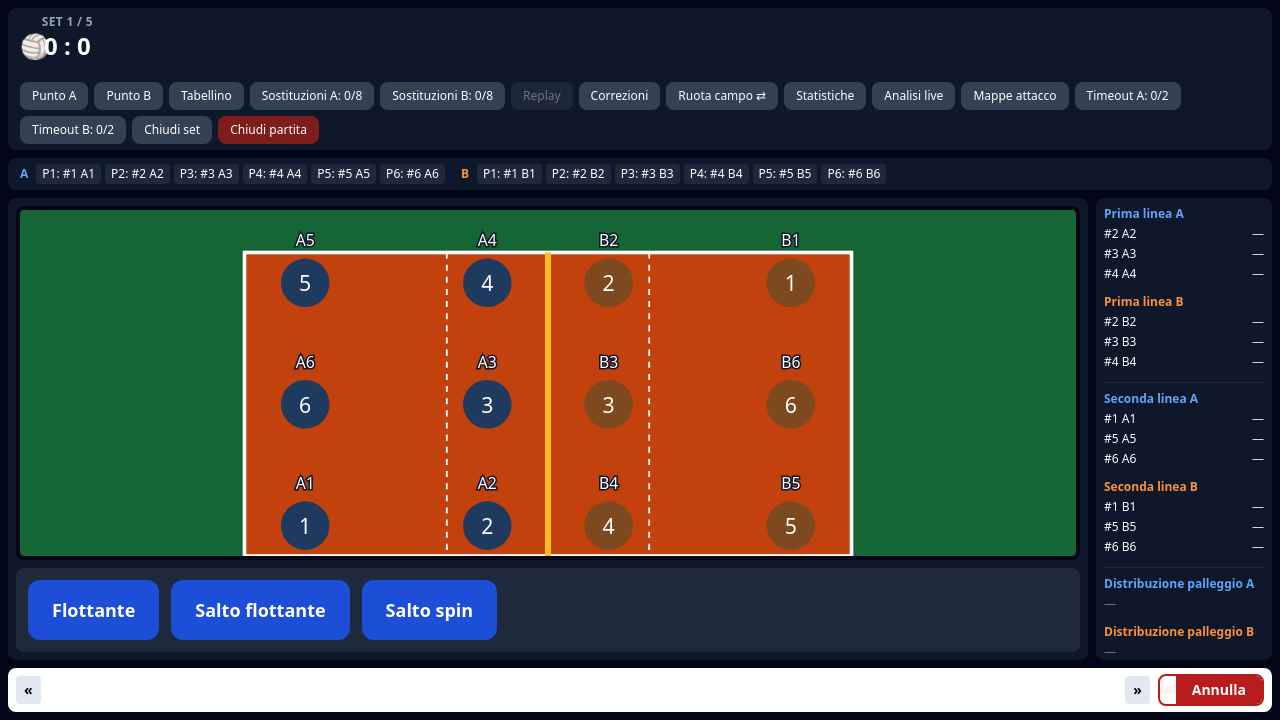
Test case: LiveScoutingScreen › annulla e correzioni › corregge il punteggio dal pannello Correzioni e le azioni restano
This screenshot has width=1280, height=720.
Expected: the element with test id "punteggio" is shown, [20, 29, 91, 62]
Click the button "Punto B": (129, 96) [94, 82, 163, 110]
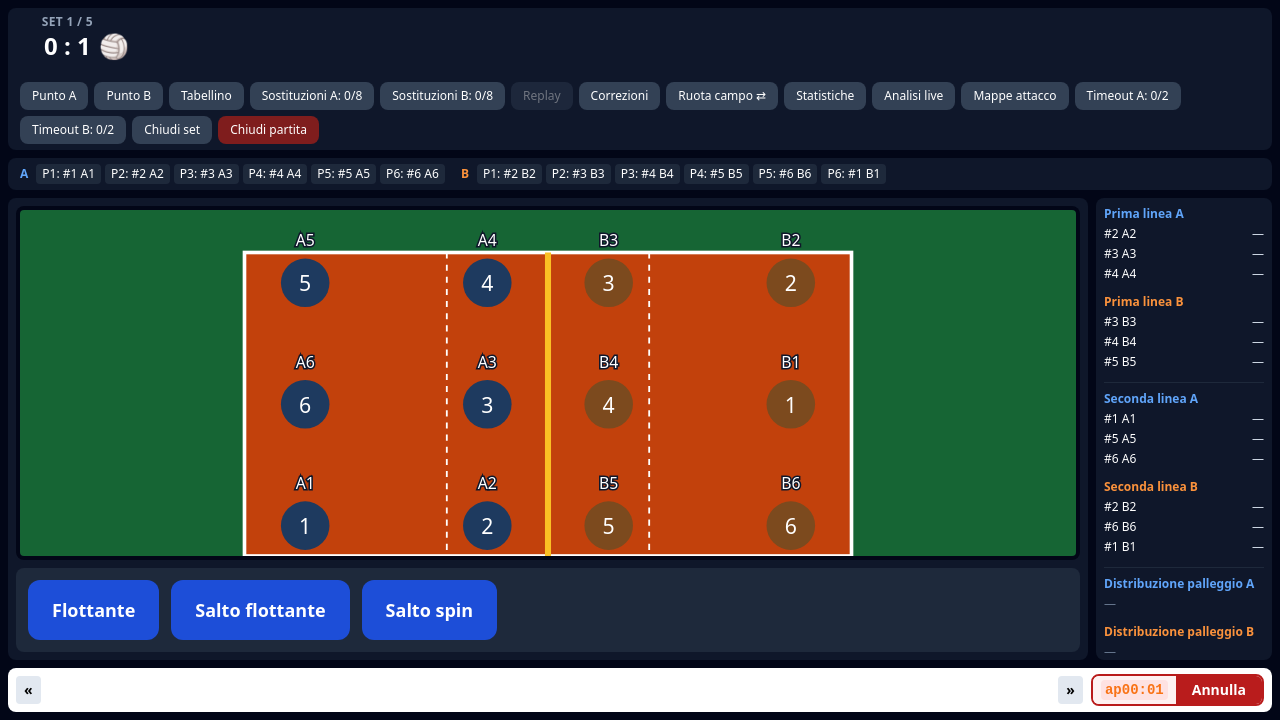
Result: the element with test id "punteggio" shows "0 : 1" at [20, 30, 115, 62]
Click the button with test id "apri-correzioni": (619, 96) [579, 82, 660, 110]
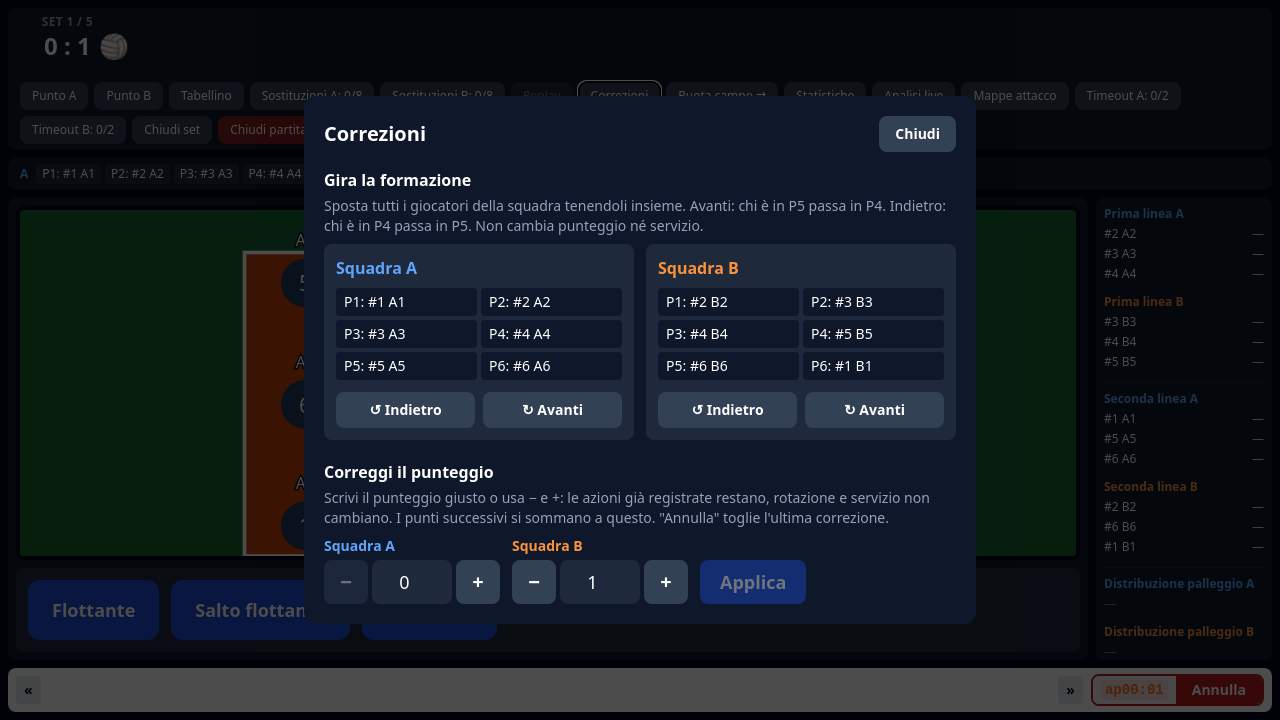
Replace the text in the number field with test id "correzione-punteggio-a" with "7": (412, 582) [372, 560, 452, 604]
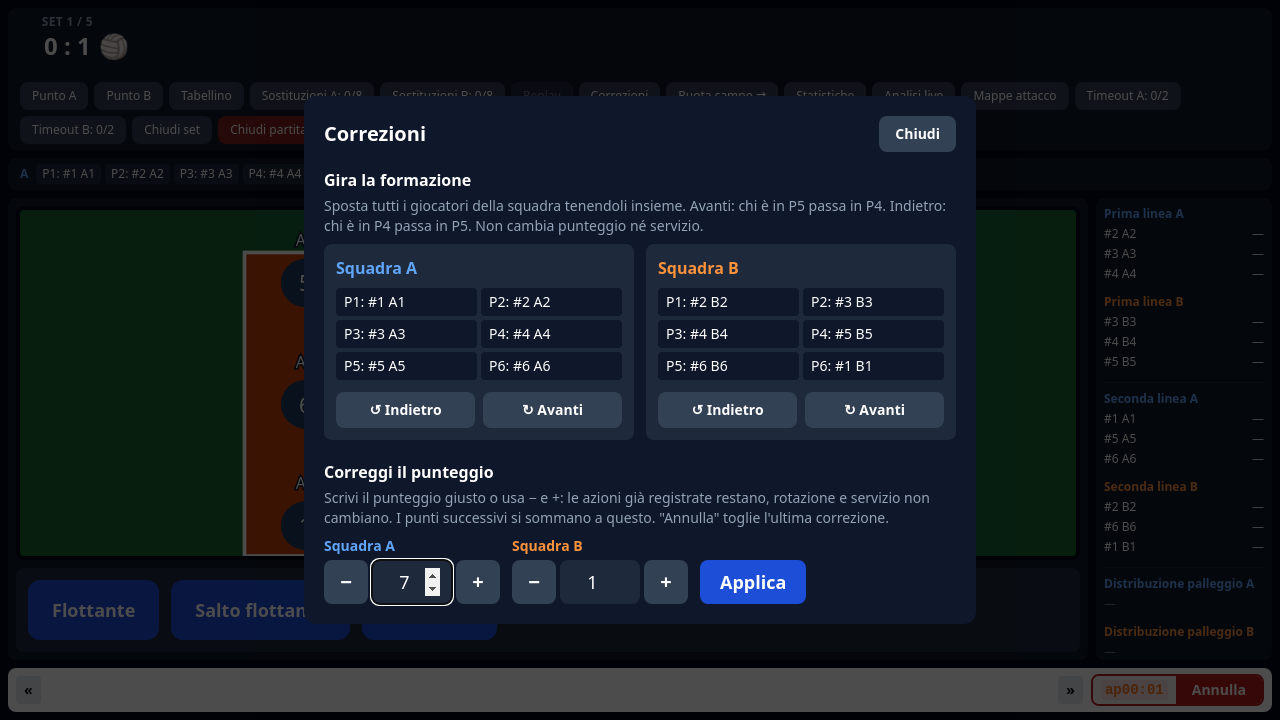
Replace the text in the number field with test id "correzione-punteggio-b" with "3": (600, 582) [560, 560, 640, 604]
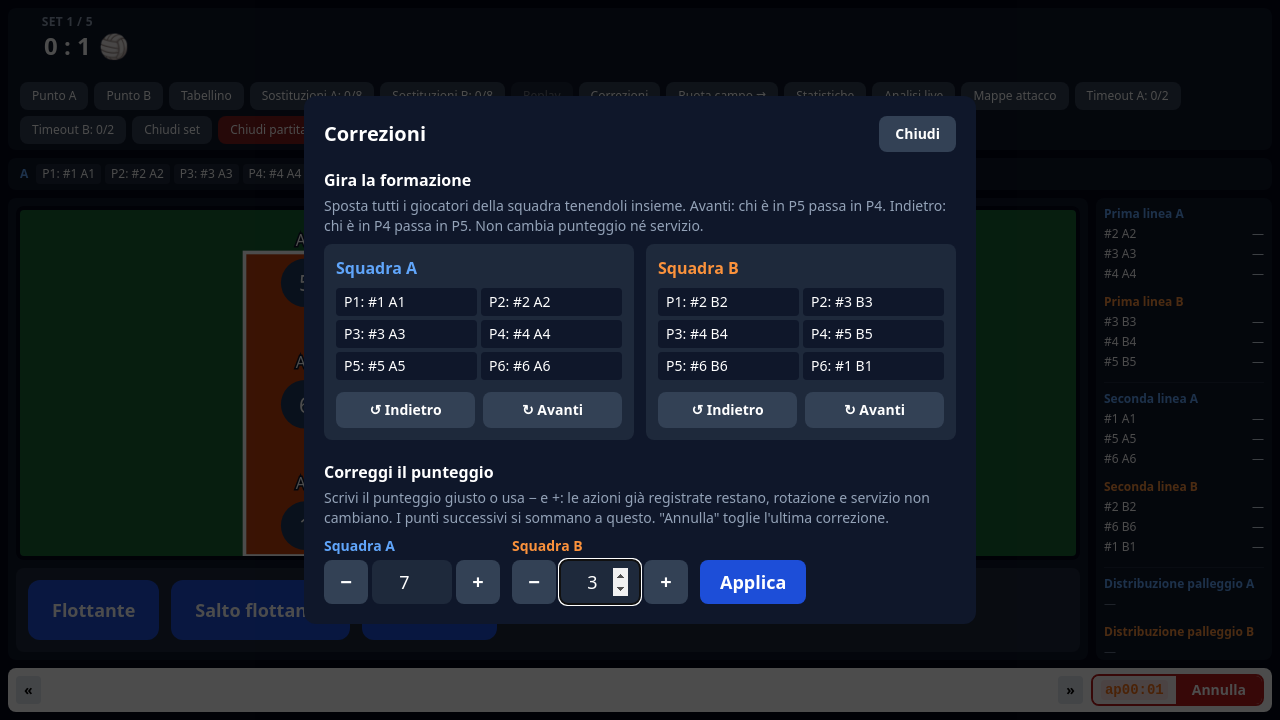
Click the button with test id "applica-correzione-punteggio": (753, 582) [700, 560, 806, 604]
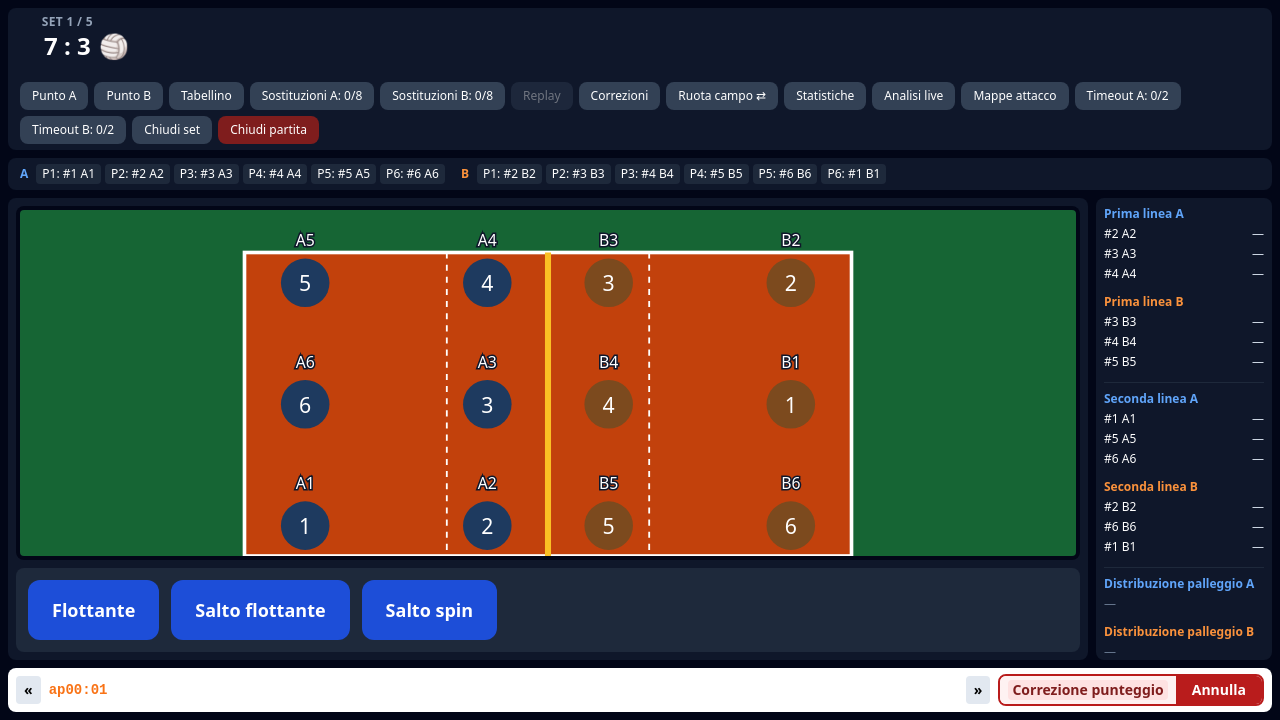
Result: the element with test id "punteggio" shows "7 : 3" at [20, 30, 115, 62]
Result: the element with test id "modal-correzioni" is gone
Click the button "Annulla": (1219, 690) [1176, 676, 1262, 704]
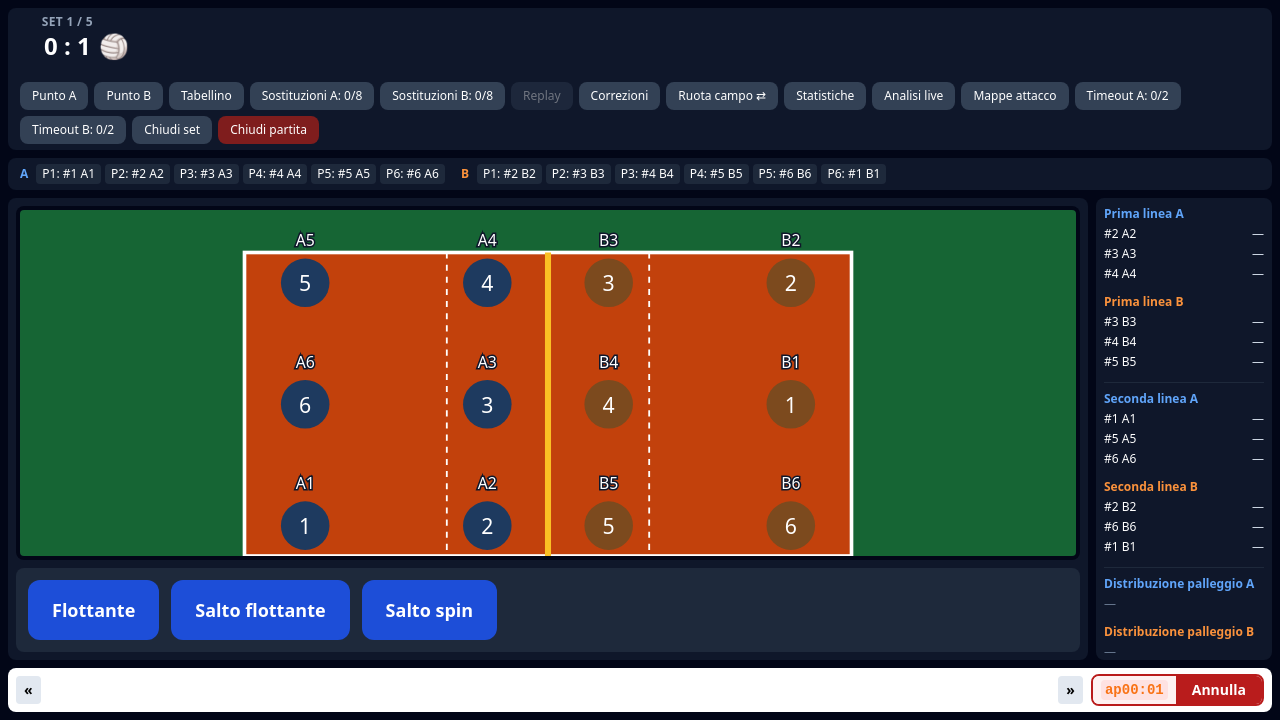
Result: the element with test id "punteggio" shows "0 : 1" at [20, 30, 115, 62]
